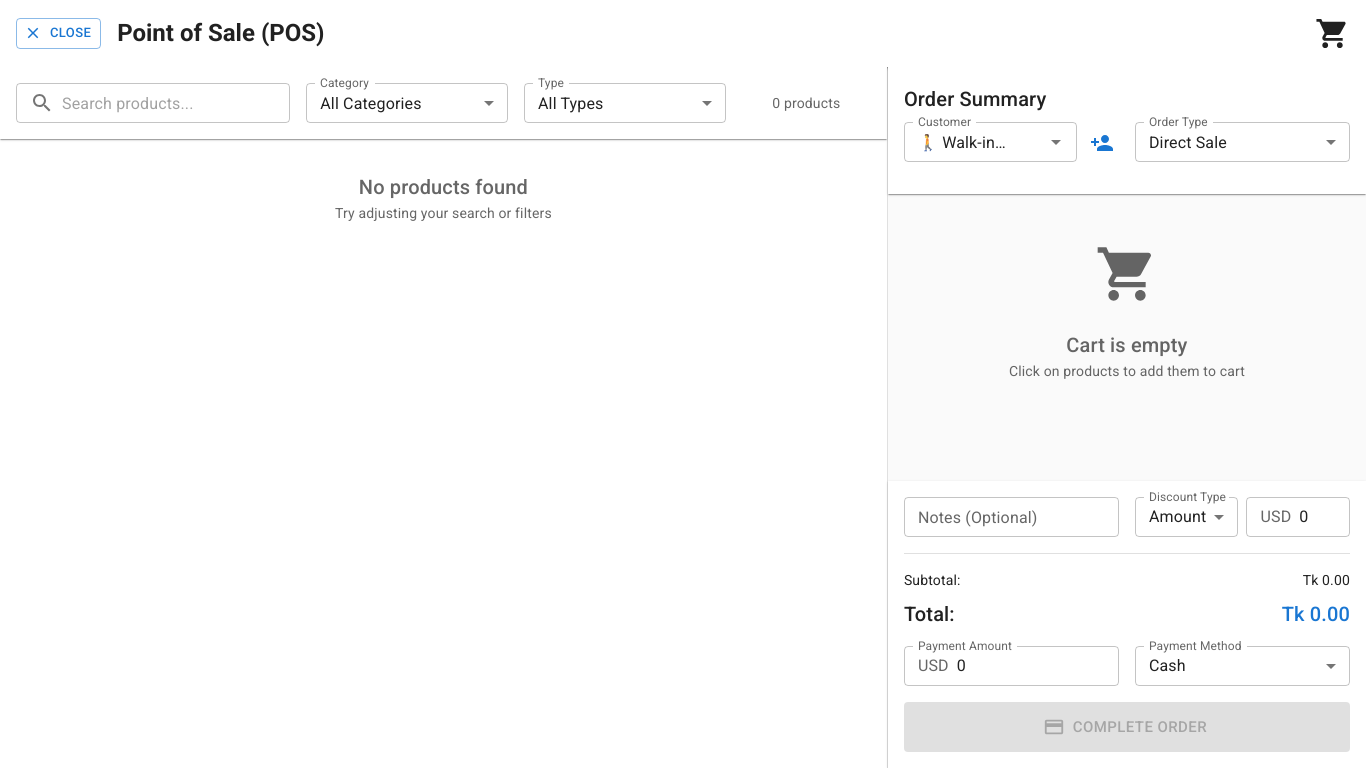
Scenario: POSOrderPage customer search › still lists the walk-in option when the search box is empty
The width and height of the screenshot is (1366, 768).
Clear the dropdown labelled "Customer" at (961, 142), box [910,128,1012,156]
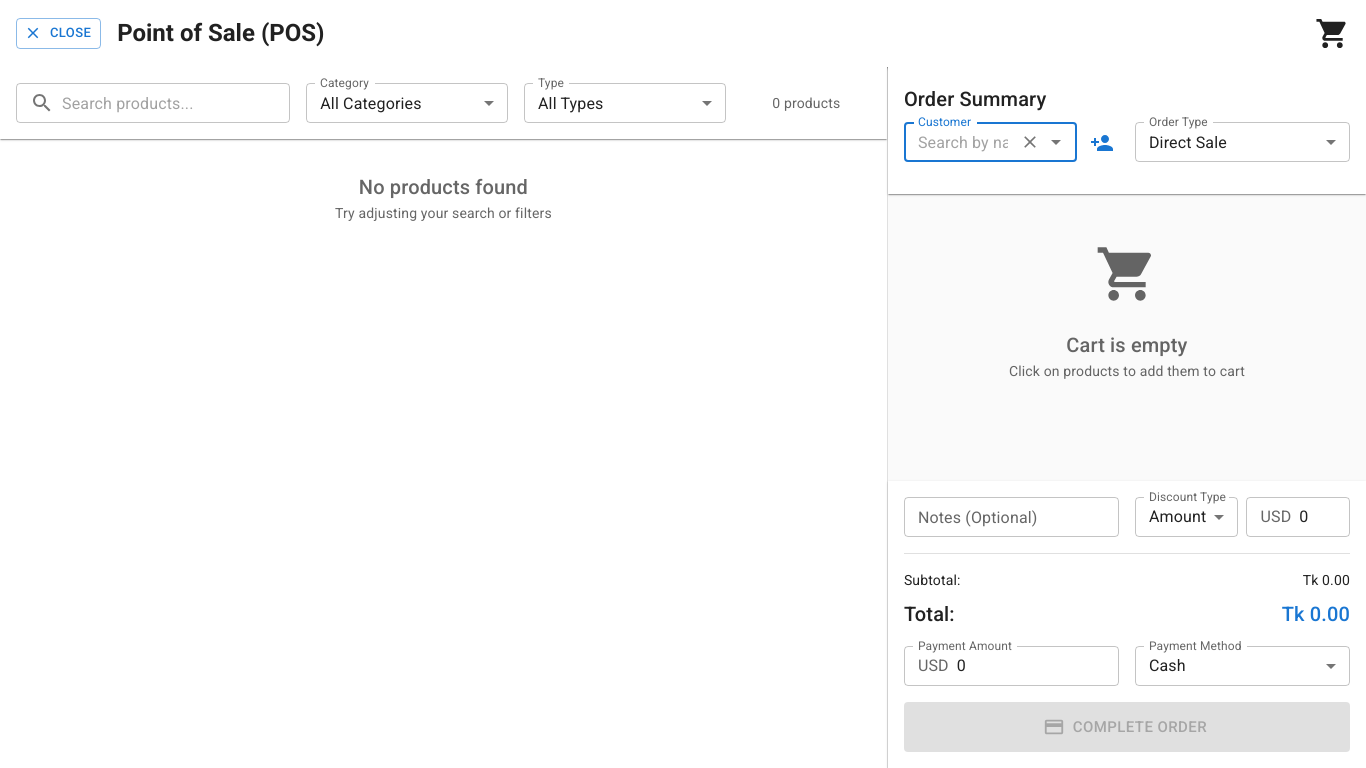
Click the dropdown labelled "Customer" at (961, 142), box [910,128,1012,156]
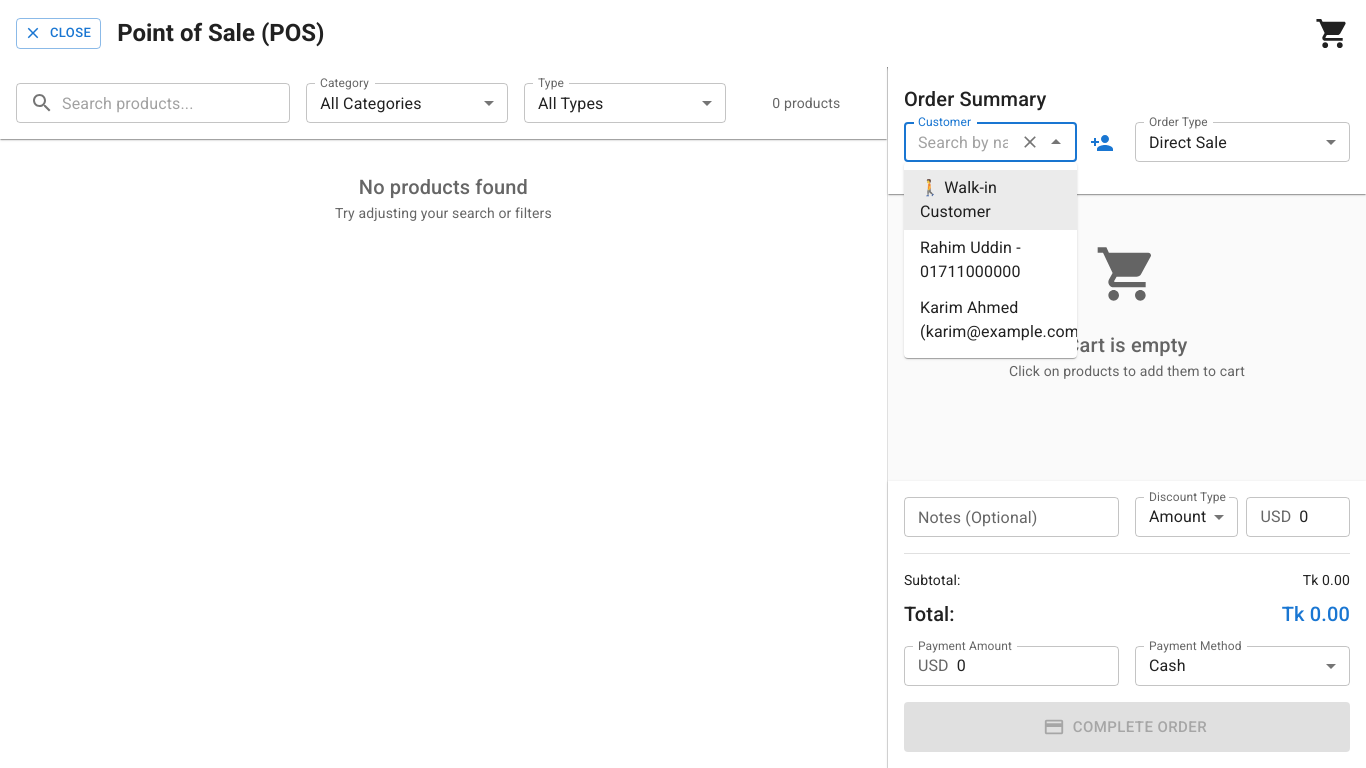
Expected: the option "🚶 Walk-in Customer" is shown, [904,170,1077,230]
Expected: the option "Rahim Uddin - 01711000000" is shown, [920,238,1021,281]
